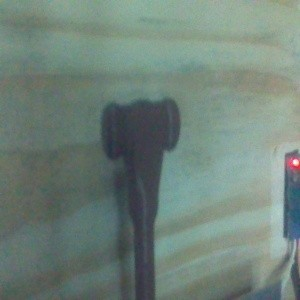palu: (100, 96, 181, 300)
